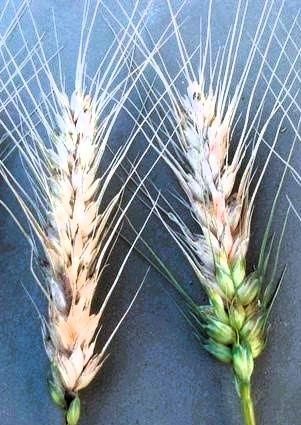Wheat scab: (156, 68, 273, 383)
